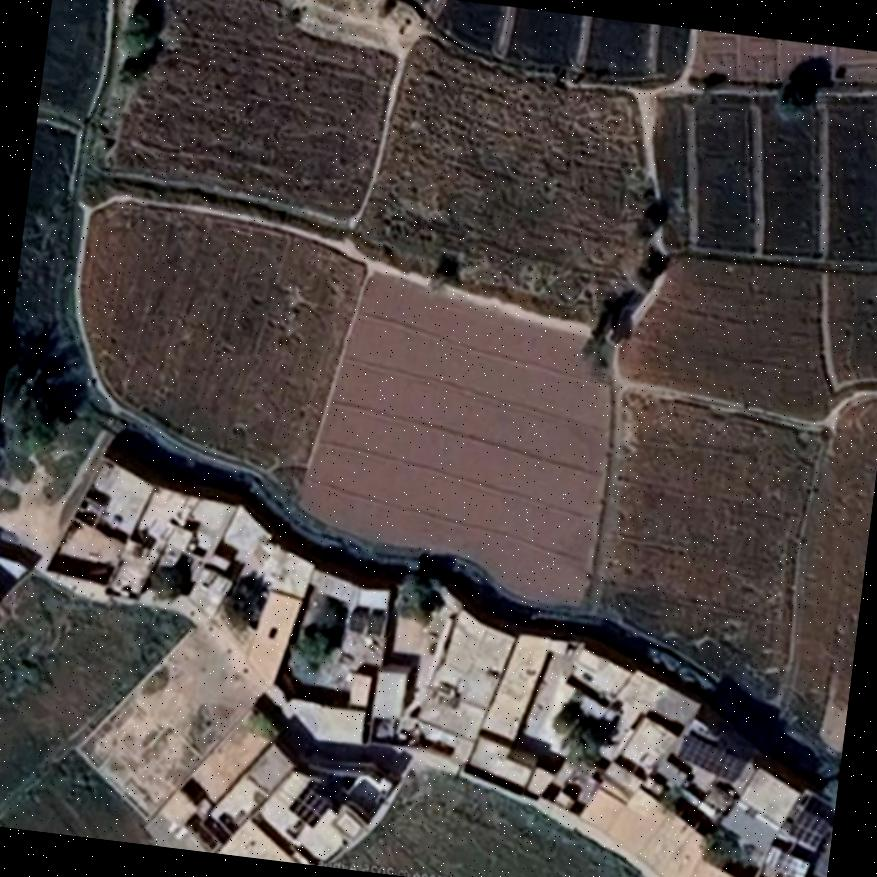Solarpanel: (679, 734, 745, 781), (287, 787, 328, 828), (788, 807, 828, 845)
